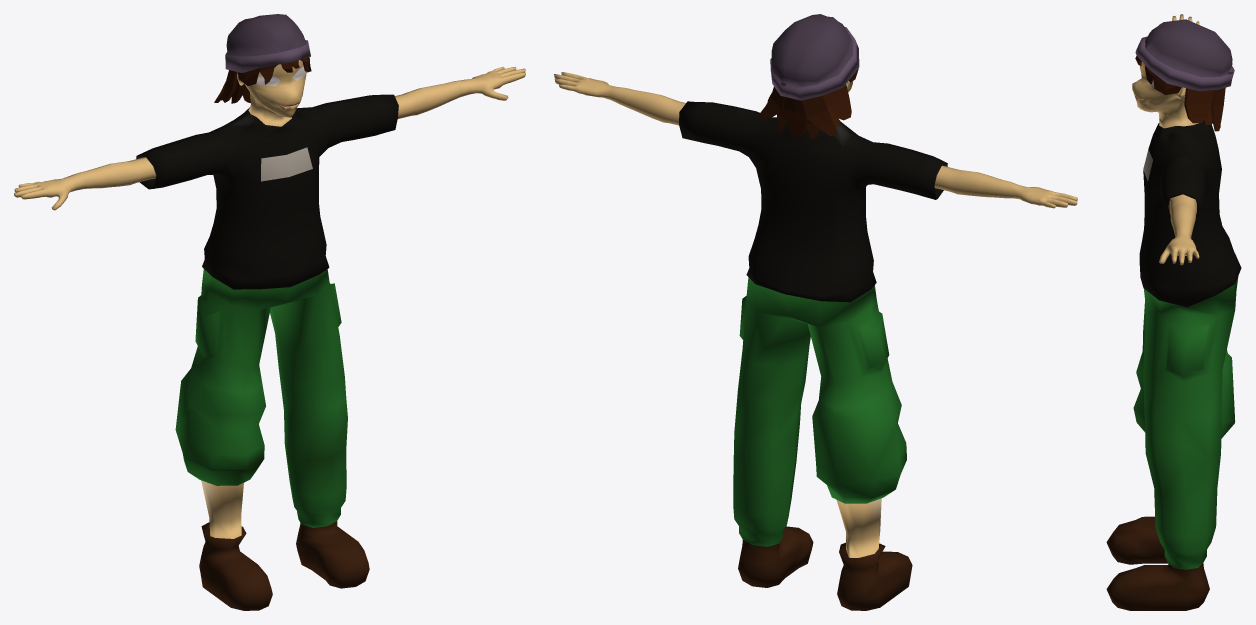
The model's file is PersonagemYkuroFinalizado.fbx.
The picture shows the model from 3 angles, left to right: view 1: azimuth 30°, elevation 25°; view 2: azimuth 150°, elevation 25°; view 3: azimuth 270°, elevation 25°; orthographic projection. The views are drawn at different scales.
Parts seen in each view (by area): view 1: Personagem_Ykuro; view 2: Personagem_Ykuro; view 3: Personagem_Ykuro.
Part boxes in pixels (left/top/right/bottom): Personagem_Ykuro: left=14, top=14, right=525, bottom=610; Personagem_Ykuro: left=554, top=14, right=1077, bottom=610; Personagem_Ykuro: left=1106, top=14, right=1241, bottom=610.
Bounding box in the file's own units: 1839 × 1914 × 423.
